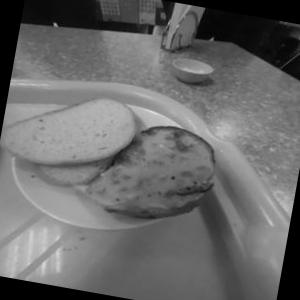bread: (0, 63, 144, 212)
cheese_sandwich: (82, 98, 240, 250)
